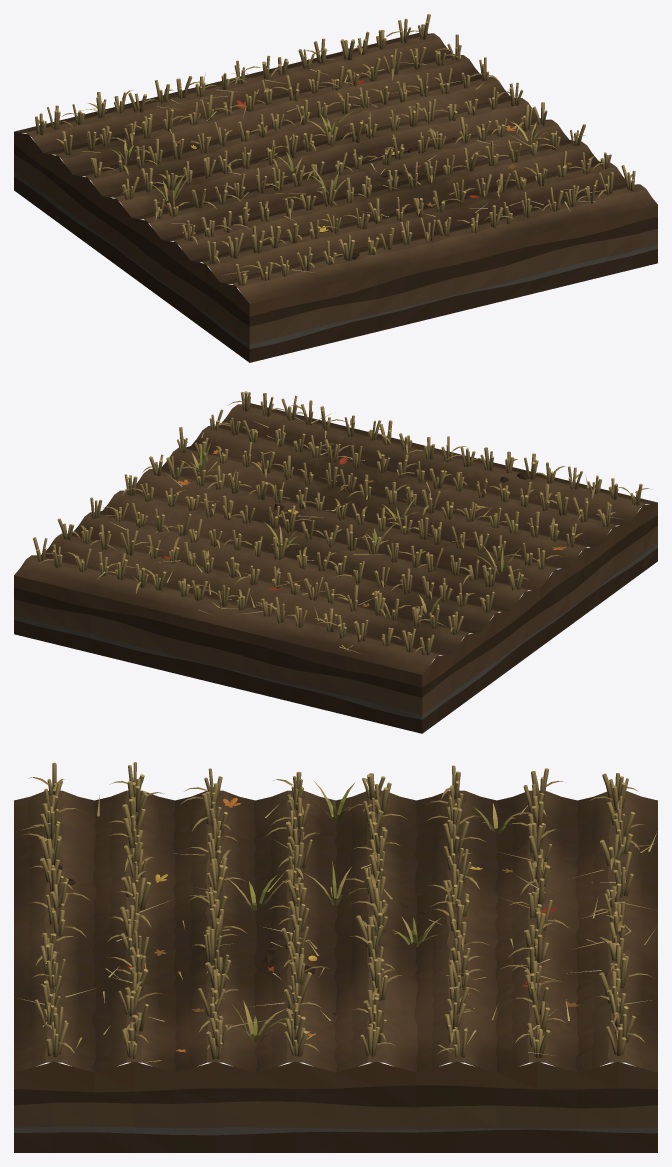
The model's file is harvested-stubble-field.glb.
3 renders of one model, top to bottom at view 1: azimuth 30°, elevation 25°; view 2: azimuth 150°, elevation 25°; view 3: azimuth 270°, elevation 25°, orthographic. The views are drawn at different scales.
Parts seen in each view (by area): view 1: harvested_stubble_field; view 2: harvested_stubble_field; view 3: harvested_stubble_field.
Boxes of the visible parts, x1,y1,x2,y2 form: harvested_stubble_field: [14, 14, 657, 362]; harvested_stubble_field: [14, 391, 657, 733]; harvested_stubble_field: [14, 762, 657, 1152].
Bounding box in the file's own units: 4 × 0.8467 × 4.
